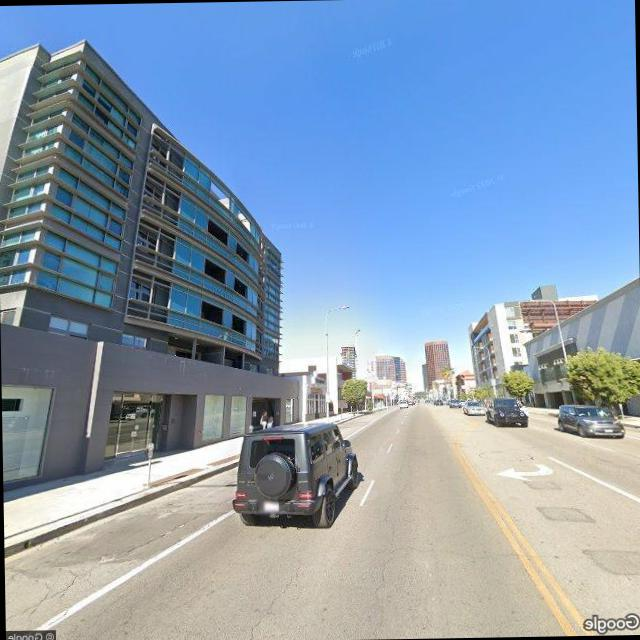crack: (235, 562, 306, 640), (7, 566, 88, 626)
